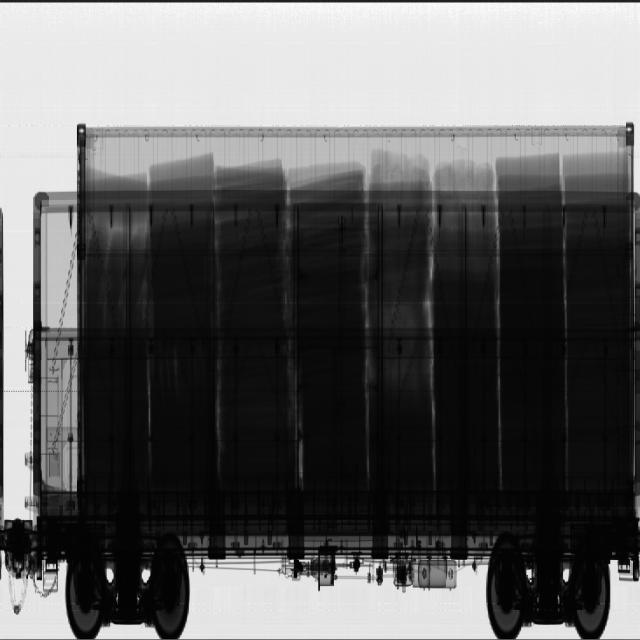fabrics: (85, 151, 627, 483)
